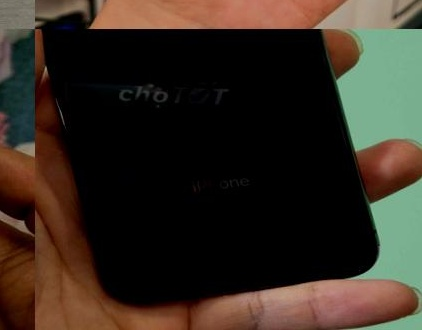scratch: (107, 186, 173, 244), (257, 212, 316, 253)
